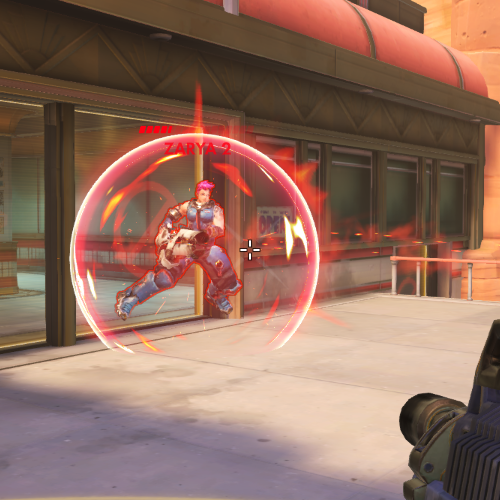hpbar: (138, 125, 255, 134)
